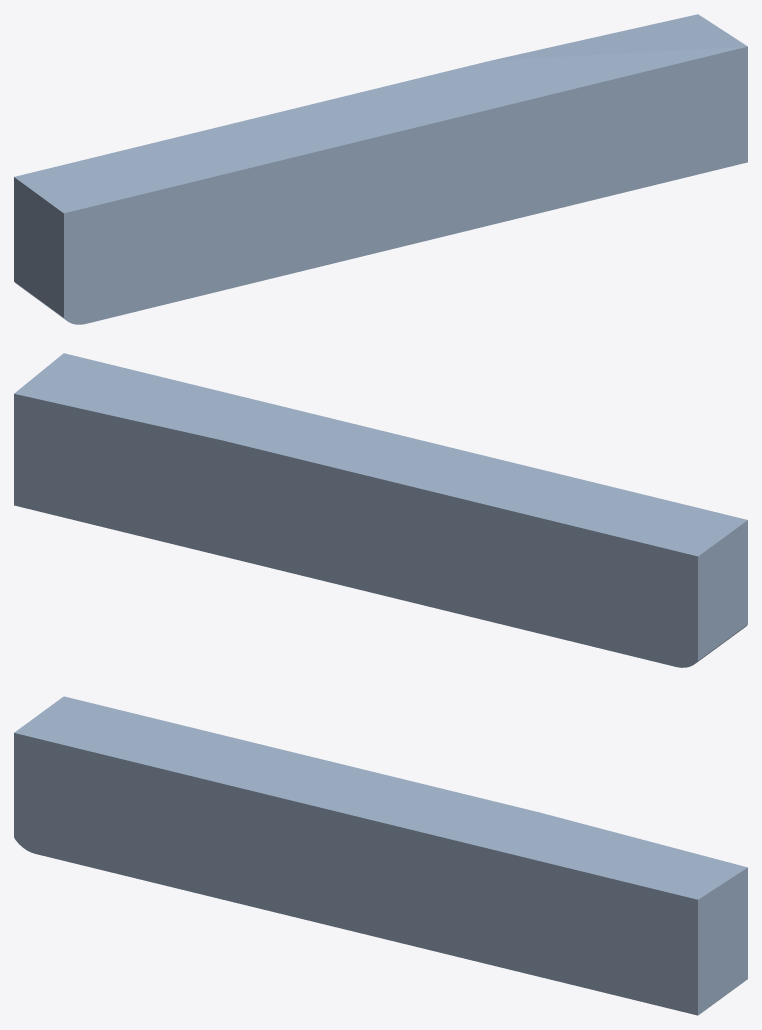
3 renders of one model, top to bottom at view 1: azimuth 30°, elevation 25°; view 2: azimuth 150°, elevation 25°; view 3: azimuth 330°, elevation 25°, orthographic.
Visible parts, largest first — view 1: decomp_6.obj; view 2: decomp_6.obj; view 3: decomp_6.obj.
Part boxes in pixels (x1,y1,x2,y2): decomp_6.obj: (14,14,747,324); decomp_6.obj: (14,353,747,667); decomp_6.obj: (14,696,747,1015).
Size of the model in its own units: 0.0602 by 0.00975 by 0.0076.
